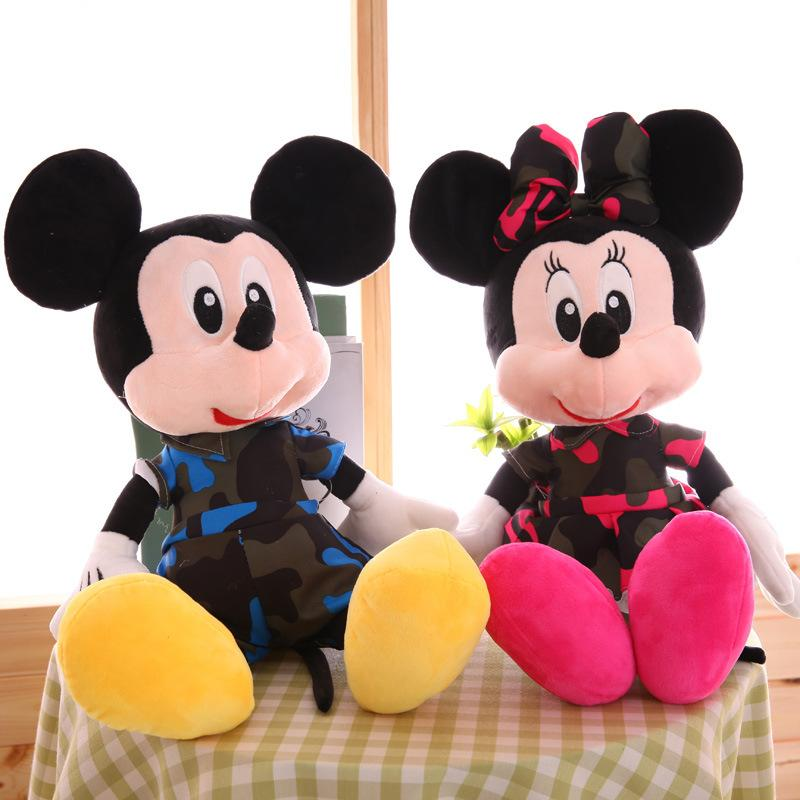Mickey: (6, 123, 400, 439)
